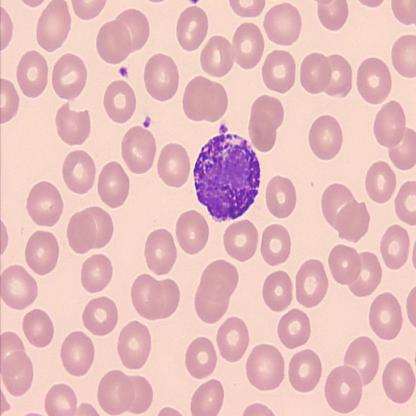Basophil: (191, 131, 262, 224)
